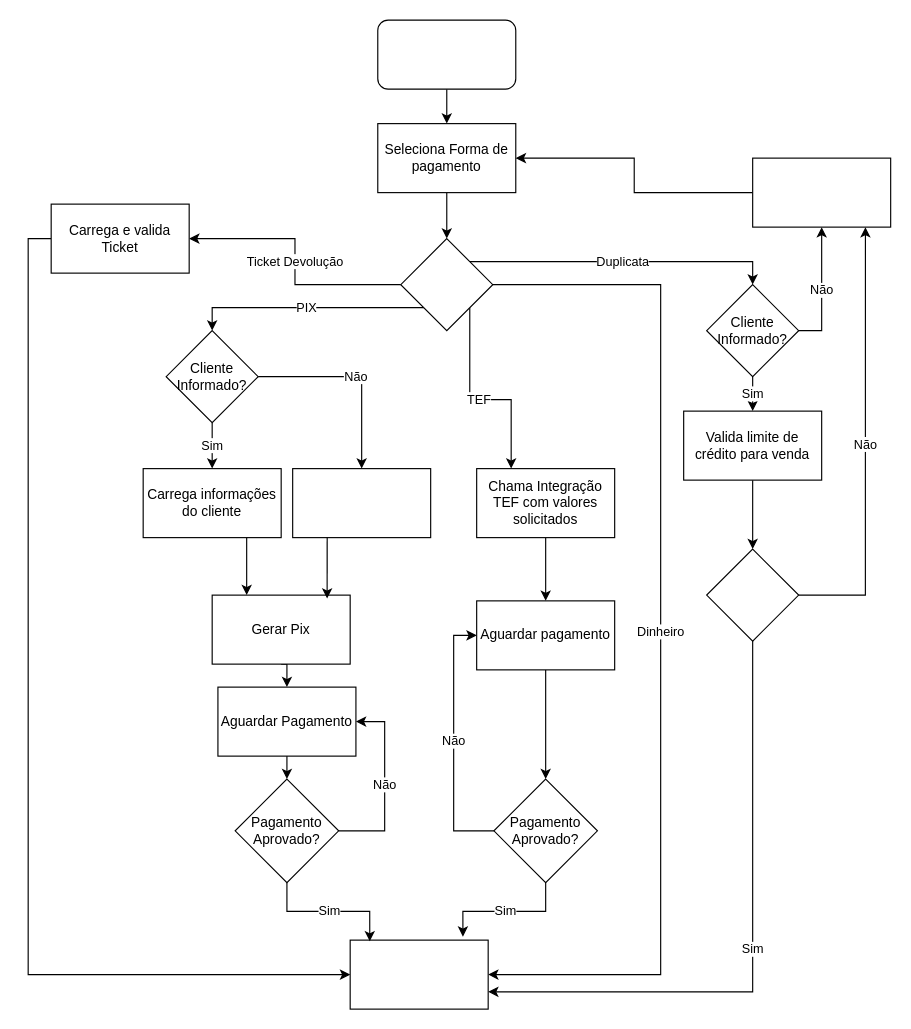
This 911x1029 diagram has some shape labels left out. The centre of each missing label's shape, as x and y in pixels:
Carrega informações do cliente Default: (x=361, y=502)
Inserir Forma de pagamento: (x=418, y=974)
Início: (x=446, y=54)
Mensagem de Erro, bloqueio: (x=821, y=192)
Qual Tipo?: (x=446, y=284)
Tem crédito?: (x=752, y=594)
